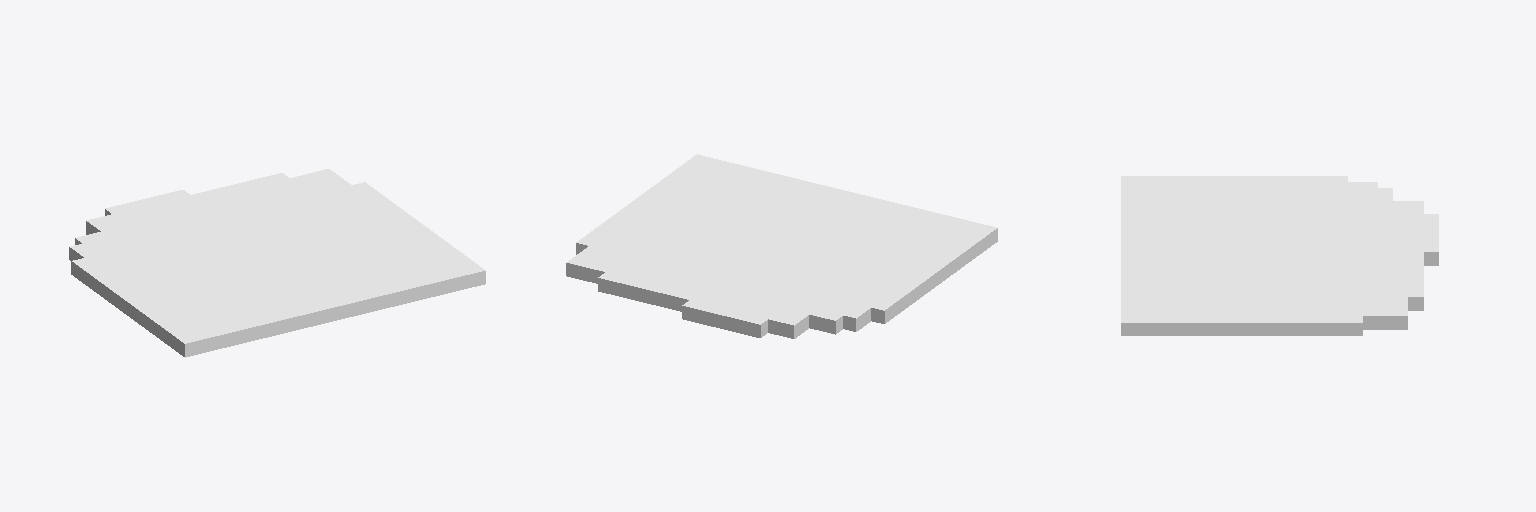
Rendered from bep.obj.
3 renders of one model, left to right at view 1: azimuth 30°, elevation 25°; view 2: azimuth 150°, elevation 25°; view 3: azimuth 270°, elevation 25°, orthographic.
Parts seen in each view (by area): view 1: object 1; view 2: object 1; view 3: object 1.
Part boxes in pixels (x1,y1,x2,y2): object 1: (69,169,485,357); object 1: (566,154,997,338); object 1: (1121,176,1438,335).
Bounding box in the file's own units: 2.3 × 0.1 × 2.1.